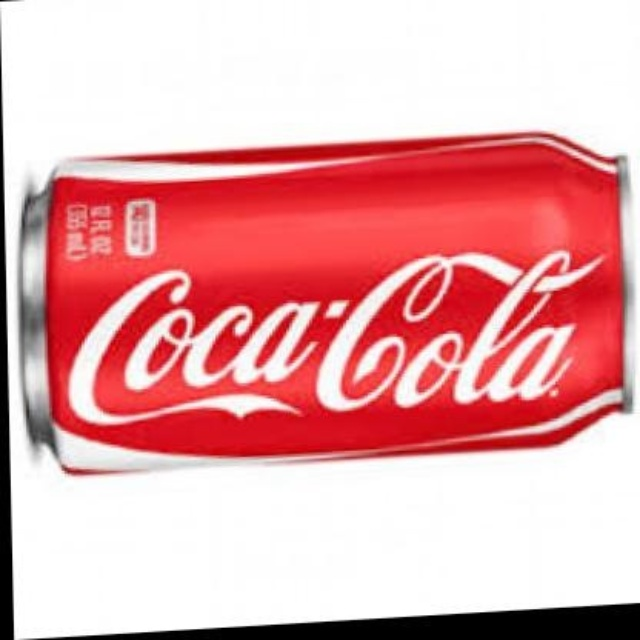trash: (20, 132, 632, 471)
